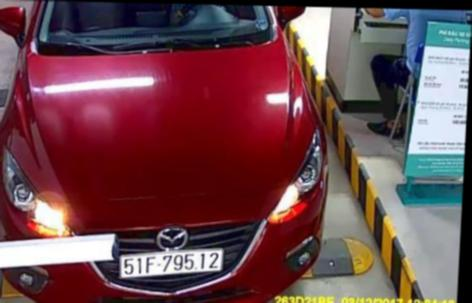License_Plate: (119, 249, 222, 276)
